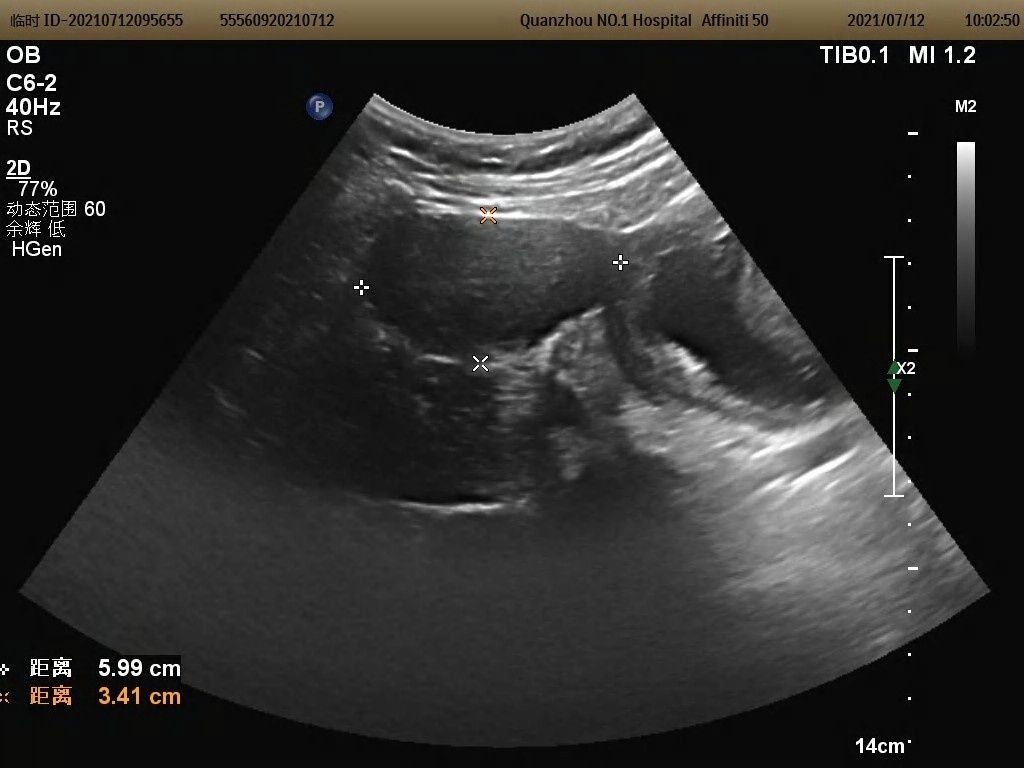肌瘤: (371, 223, 604, 349)
